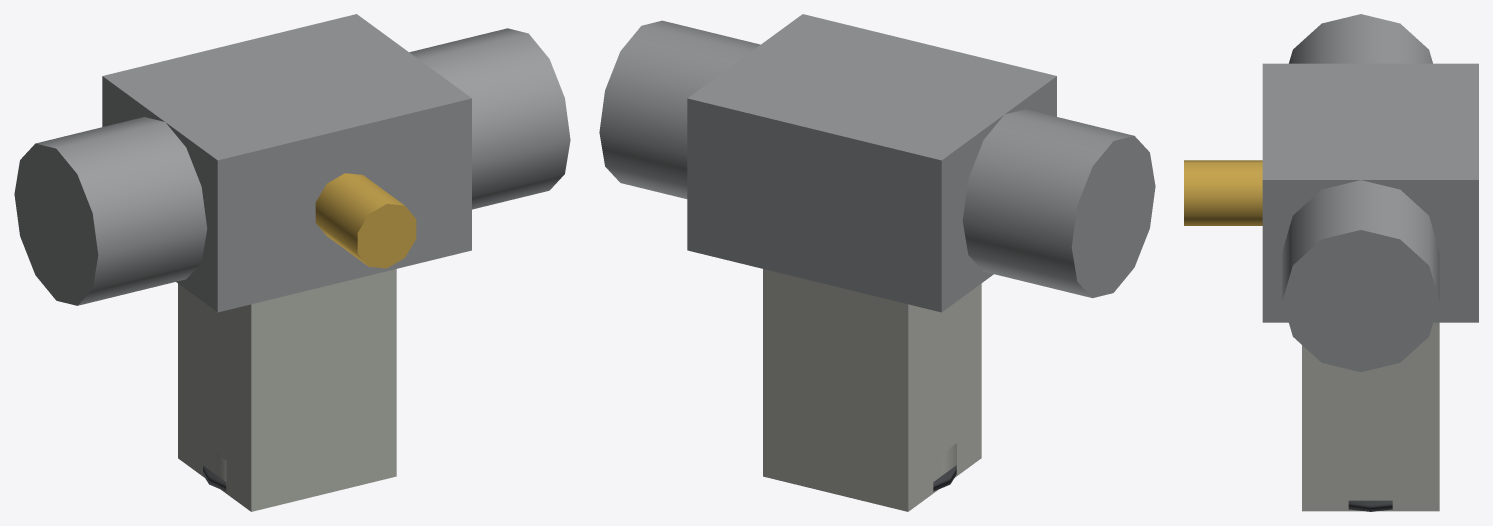
The model's file is additional-air-valve.glb.
The picture shows the model from 3 angles, left to right: view 1: azimuth 30°, elevation 25°; view 2: azimuth 150°, elevation 25°; view 3: azimuth 270°, elevation 25°; orthographic projection. The views are drawn at different scales.
Parts seen in each view (by area): view 1: additional-air-valve:castAlu, additional-air-valve:zincPlate, additional-air-valve:brass; view 2: additional-air-valve:castAlu, additional-air-valve:zincPlate; view 3: additional-air-valve:castAlu, additional-air-valve:zincPlate, additional-air-valve:brass, additional-air-valve:darkSteel.
Part boxes in pixels (x1,y1,x2,y2): additional-air-valve:castAlu: (14,14,570,312); additional-air-valve:zincPlate: (178,269,396,511); additional-air-valve:brass: (315,173,416,268); additional-air-valve:castAlu: (599,14,1155,312); additional-air-valve:zincPlate: (763,269,981,511); additional-air-valve:castAlu: (1262,14,1478,372); additional-air-valve:zincPlate: (1302,322,1439,511); additional-air-valve:brass: (1184,160,1262,225); additional-air-valve:darkSteel: (1348,500,1392,511).
Size of the model in its own units: 52 by 40 by 30.
